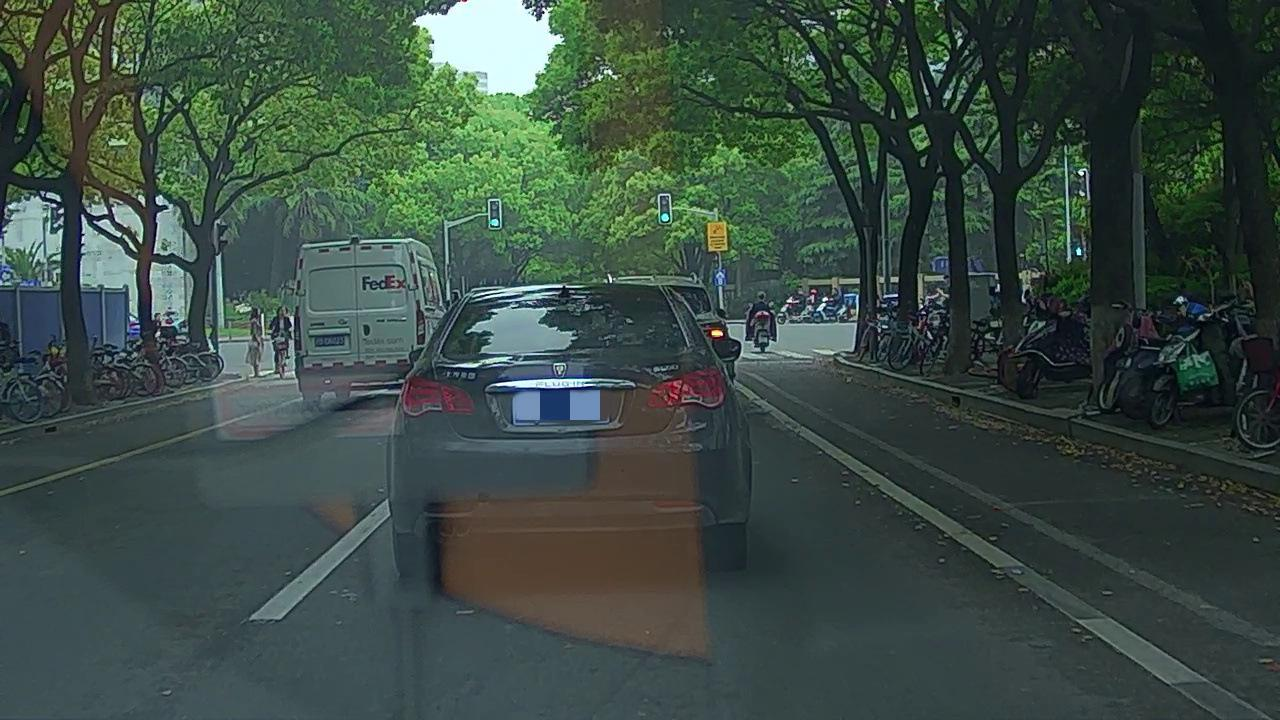traffic_light: (489, 201, 500, 229), (661, 195, 671, 223)
